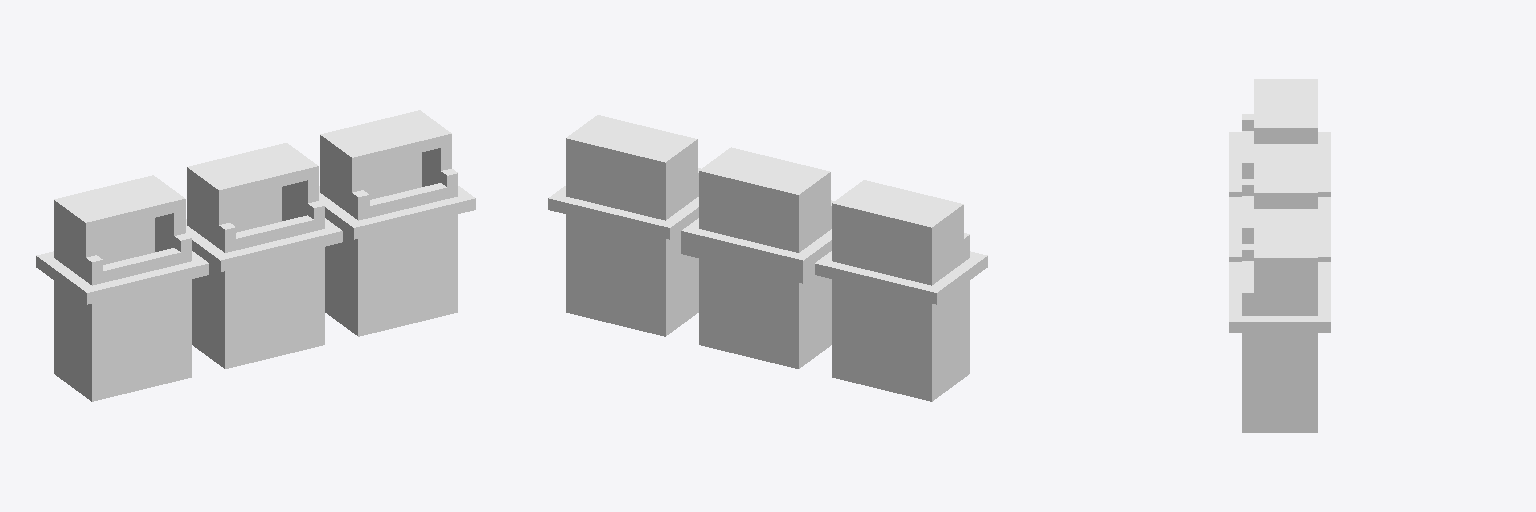
The model's file is gglive_bin.obj.
3 views of the same model, side by side, from view 1: azimuth 30°, elevation 25°; view 2: azimuth 150°, elevation 25°; view 3: azimuth 270°, elevation 25° (orthographic).
Parts seen in each view (by area): view 1: gglive_bin; view 2: gglive_bin; view 3: gglive_bin.
Boxes of the visible parts, box(x1,y1,x2,y2) form: gglive_bin: box(36, 110, 475, 401); gglive_bin: box(548, 115, 987, 401); gglive_bin: box(1229, 79, 1330, 432).
Size of the model in its own units: 35 by 15 by 8.